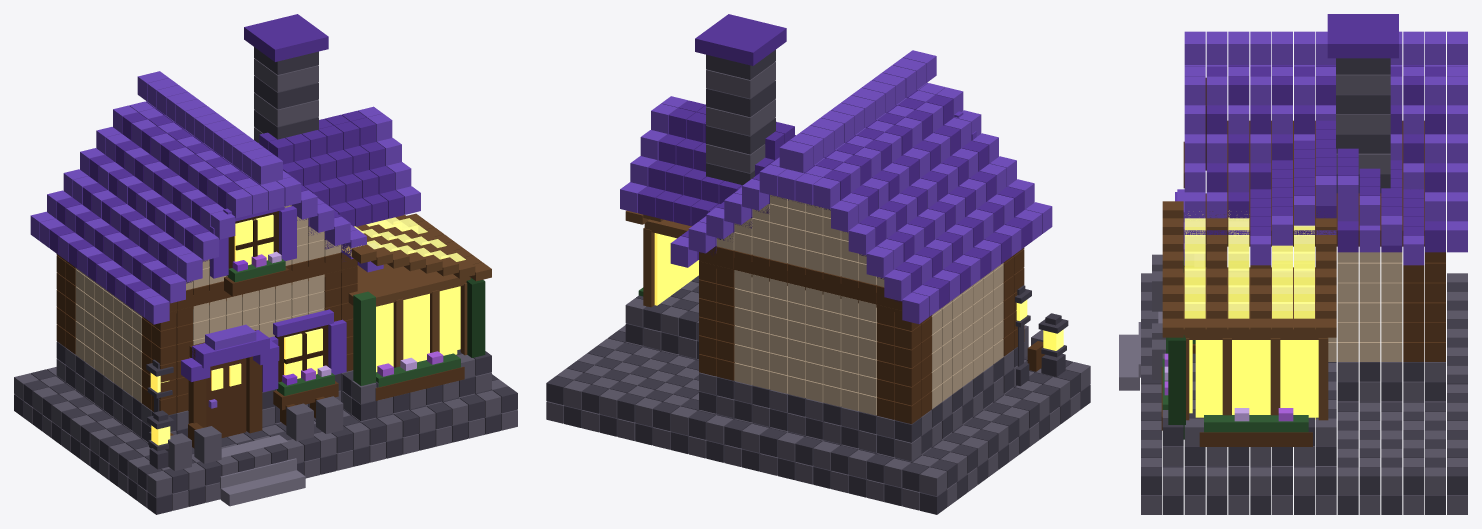
File: cottage-garden.glb
The picture shows the model from 3 angles, left to right: view 1: azimuth 30°, elevation 25°; view 2: azimuth 150°, elevation 25°; view 3: azimuth 270°, elevation 25°; orthographic projection. The views are drawn at different scales.
Parts seen in each view (by area): view 1: roofLight, roof, stone, stoneDark, beam, plaster, creamFrame, glass, shutter, leaf, stoneLight, door (+4 smaller); view 2: roofLight, stoneDark, stone, plaster, roof, beam, creamFrame, glass; view 3: roofLight, stone, stoneDark, roof, creamFrame, beam, glass, sunGlass, plaster, leaf, leafDark, stoneLight.
Part boxes in pixels (bbox=[...]): roofLight: bbox=[30, 71, 420, 350]; roof: bbox=[49, 14, 404, 310]; stone: bbox=[14, 58, 517, 510]; stoneDark: bbox=[14, 47, 517, 514]; beam: bbox=[56, 252, 464, 448]; plaster: bbox=[75, 205, 341, 402]; creamFrame: bbox=[341, 213, 491, 367]; glass: bbox=[211, 214, 460, 390]; shutter: bbox=[181, 206, 346, 392]; leaf: bbox=[227, 259, 460, 395]; stoneLight: bbox=[220, 435, 305, 506]; door: bbox=[206, 358, 246, 437]; roofLight: bbox=[620, 50, 1052, 324]; stoneDark: bbox=[546, 49, 1090, 514]; stone: bbox=[546, 62, 1090, 510]; plaster: bbox=[716, 195, 1003, 415]; roof: bbox=[638, 14, 1031, 309]; beam: bbox=[699, 246, 1044, 424]; creamFrame: bbox=[625, 210, 691, 307]; glass: bbox=[654, 233, 698, 305]; roofLight: bbox=[1177, 31, 1467, 265]; stone: bbox=[1141, 74, 1467, 514]; stoneDark: bbox=[1141, 58, 1467, 514]; roof: bbox=[1206, 14, 1445, 252]; creamFrame: bbox=[1162, 201, 1336, 420]; beam: bbox=[1161, 120, 1445, 446]; glass: bbox=[1189, 340, 1318, 419]; sunGlass: bbox=[1184, 210, 1314, 318]; plaster: bbox=[1328, 252, 1402, 361]; leaf: bbox=[1162, 257, 1308, 432]; leafDark: bbox=[1168, 335, 1185, 439]; stoneLight: bbox=[1119, 311, 1162, 390].
Bounding box in the file's own units: 3.18 × 3 × 2.31.
